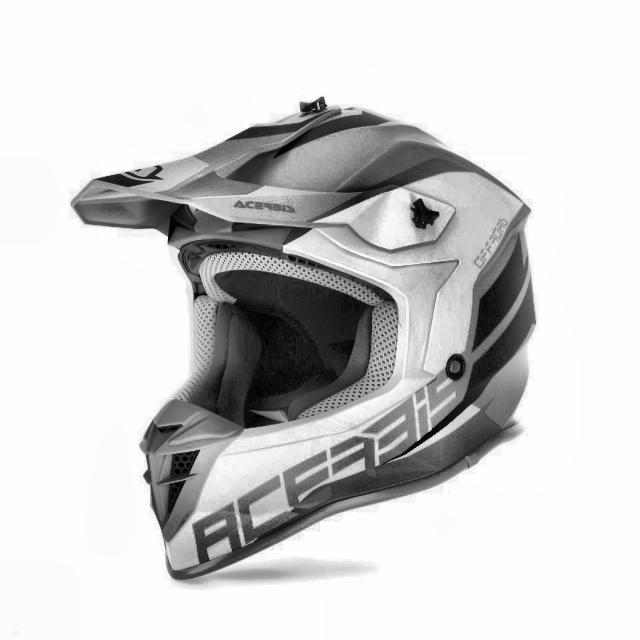Helmet: (77, 79, 538, 588)
